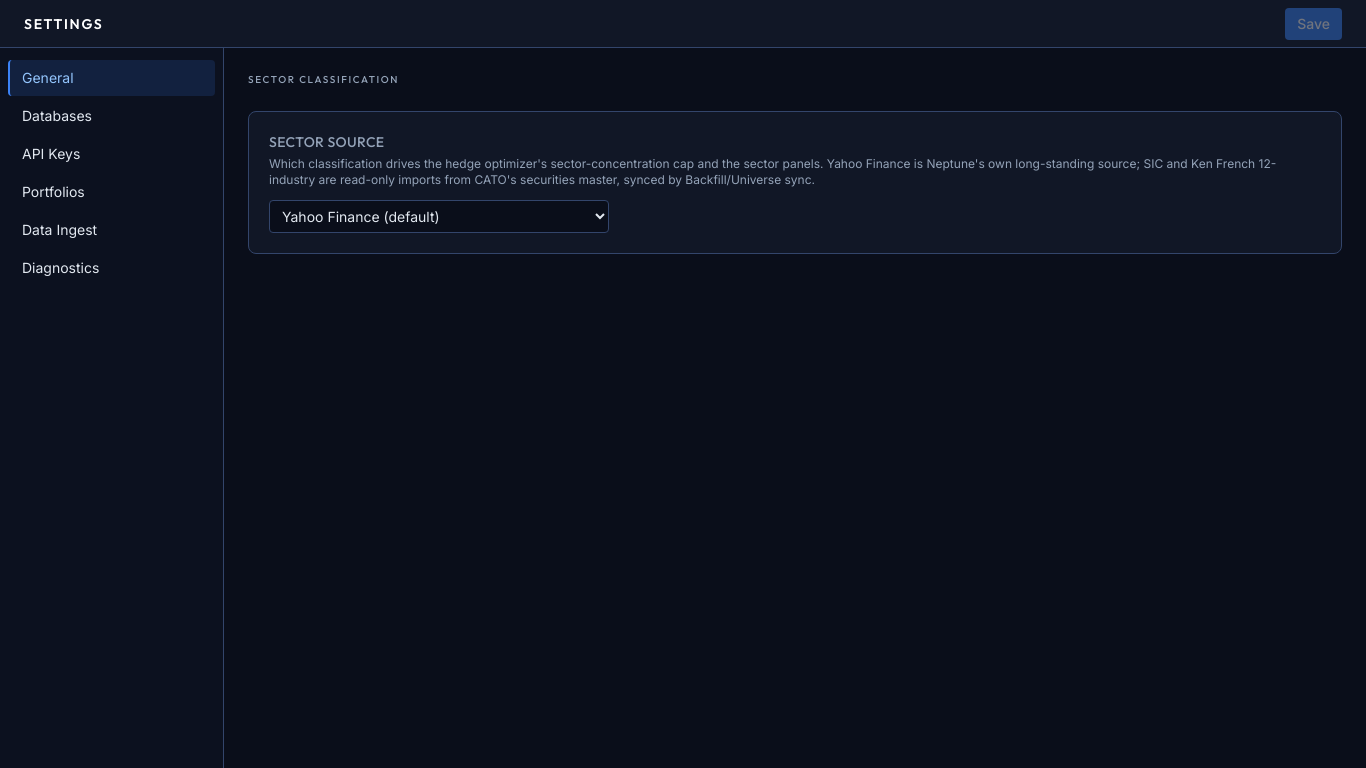
Settings › syncs the universe and reports the count
Click the button "Data Ingest" at (112, 230), box [8,212,215,248]
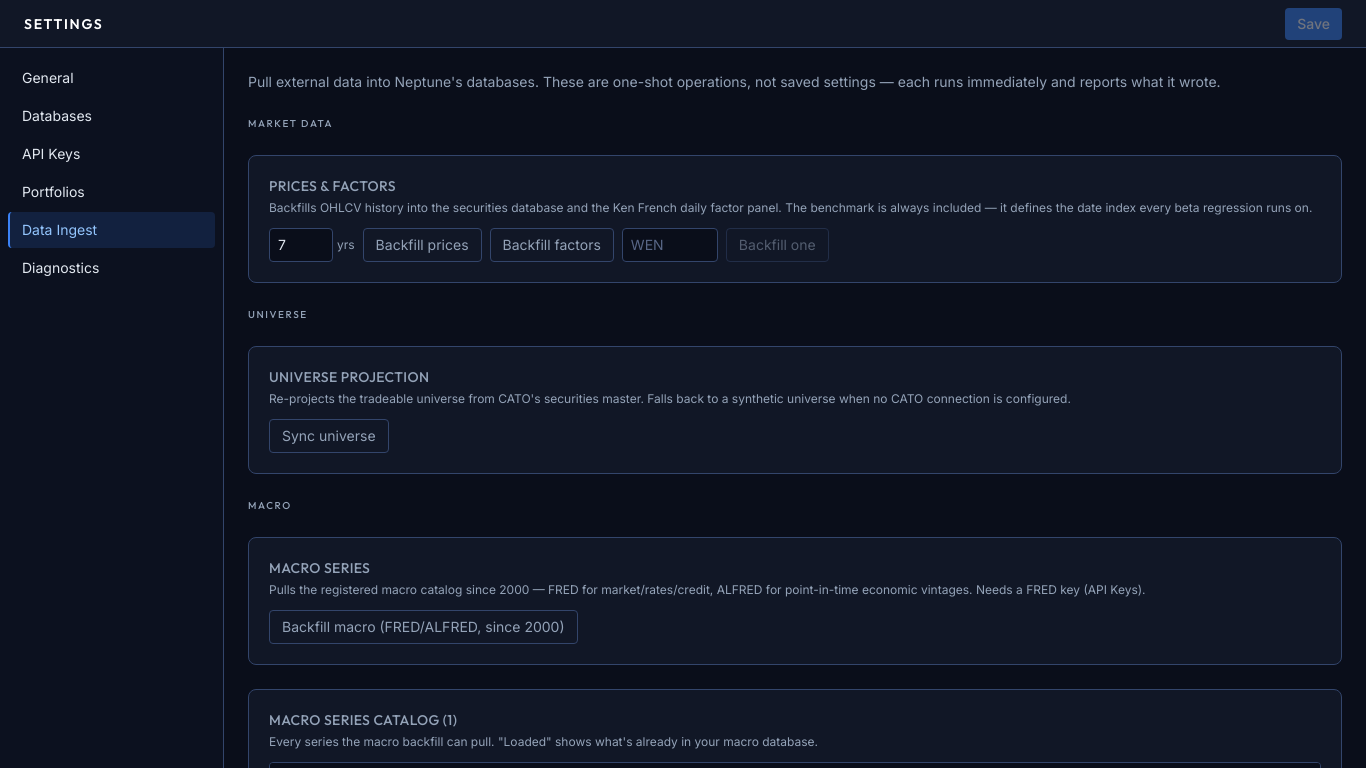
Click the button "Sync universe" at (329, 436), box [269,419,389,453]
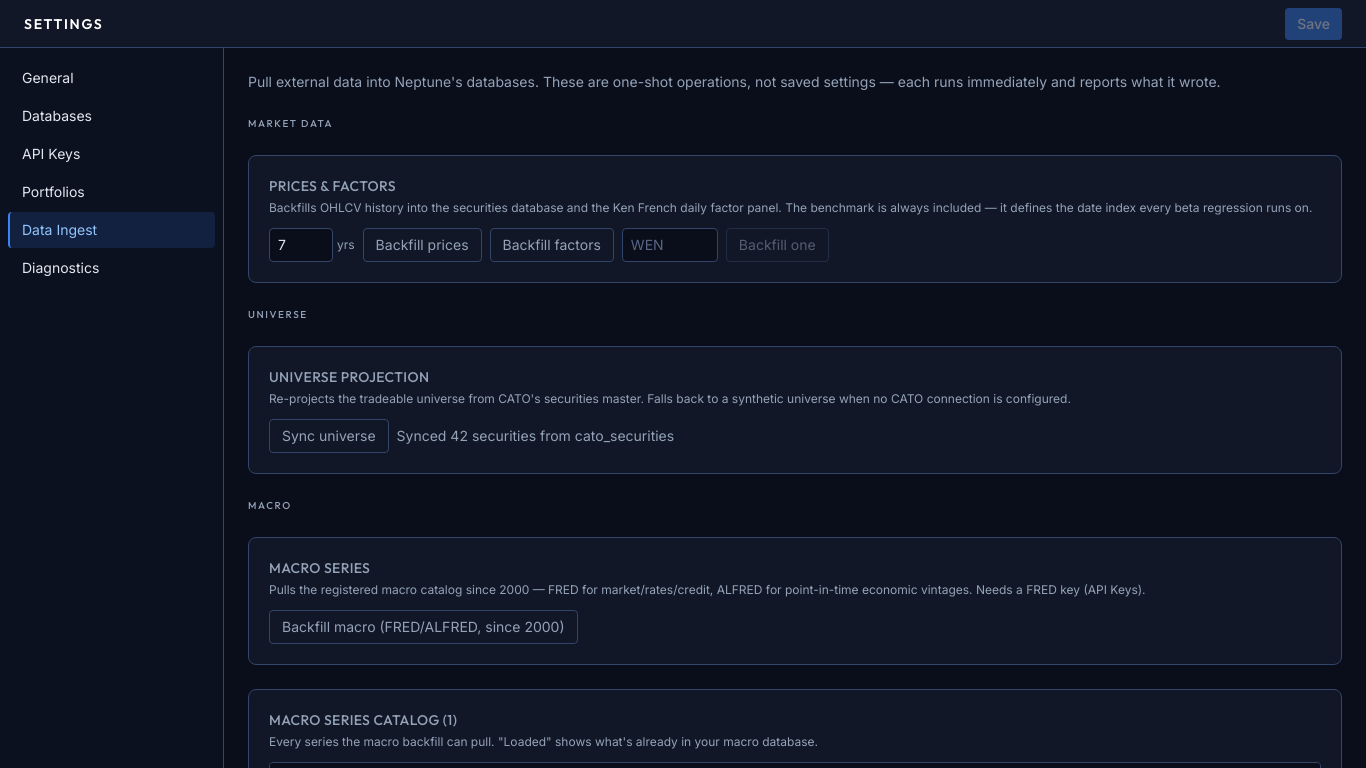
Check: the text "Synced 42 securities from cato_securities" is shown, box [397,426,674,446]
